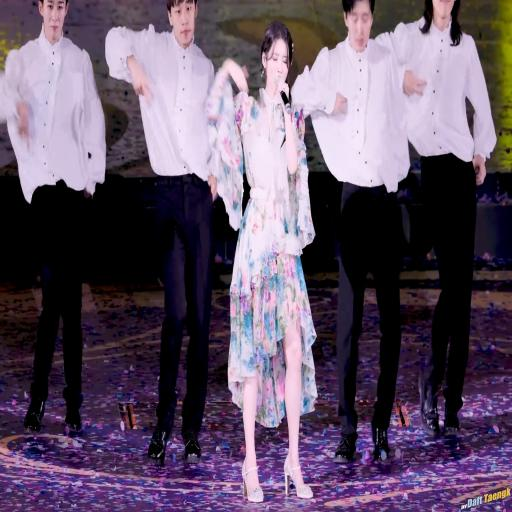IU: (262, 24, 294, 92)
